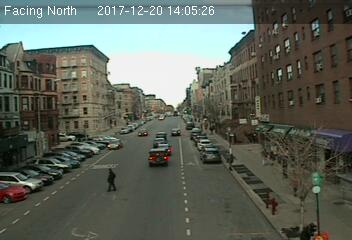car: (147, 149, 168, 167), (201, 147, 221, 163), (157, 143, 172, 156), (106, 139, 122, 150), (170, 127, 182, 137)
pedestrian: (105, 166, 119, 194)
